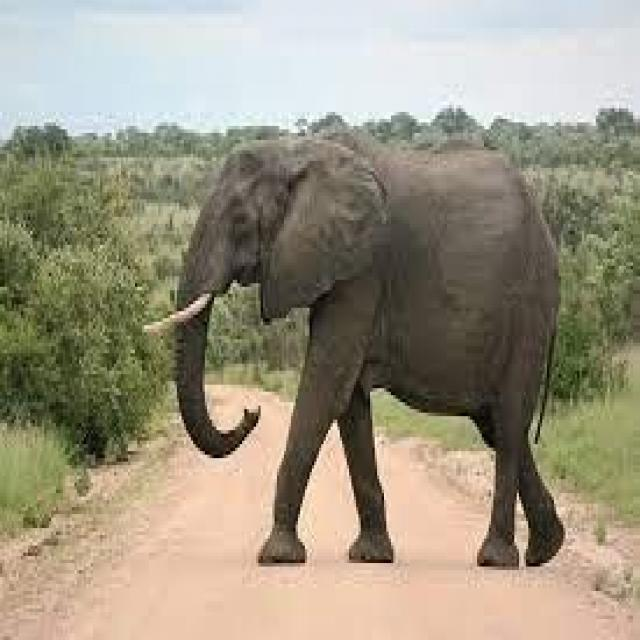Elephant: (160, 133, 566, 559)
